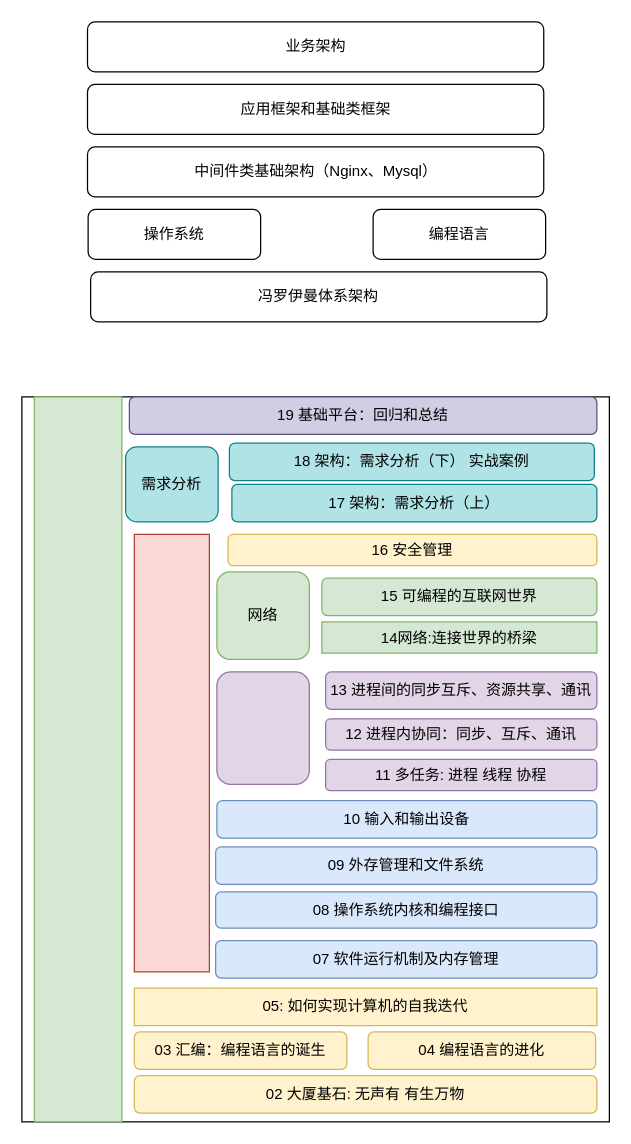
Some shapes in this 631 by 1144 pixel diagram are drawn without their labels. Here are the shapes that lost their labels. From the top down, the centre of each, then its label:
(262,727): 多任务
(77,759): 第一章 基础平台
(171,752): 06 操作系统进场
